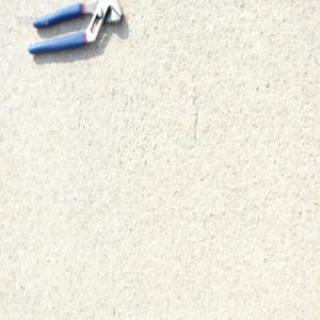Pliertrack_idkeyframe: (25, 0, 124, 55)
